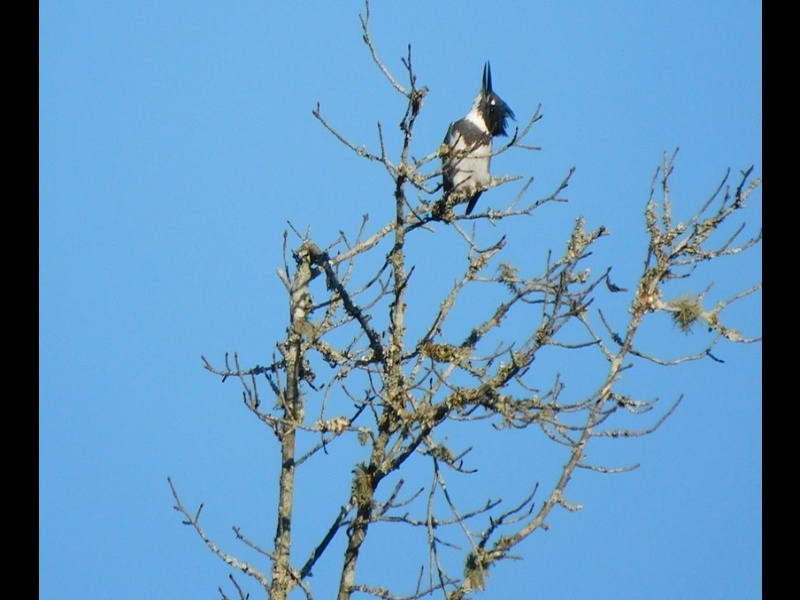kingfisher: (437, 59, 517, 208)
